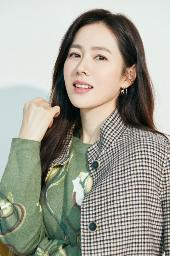face: (62, 21, 121, 107)
